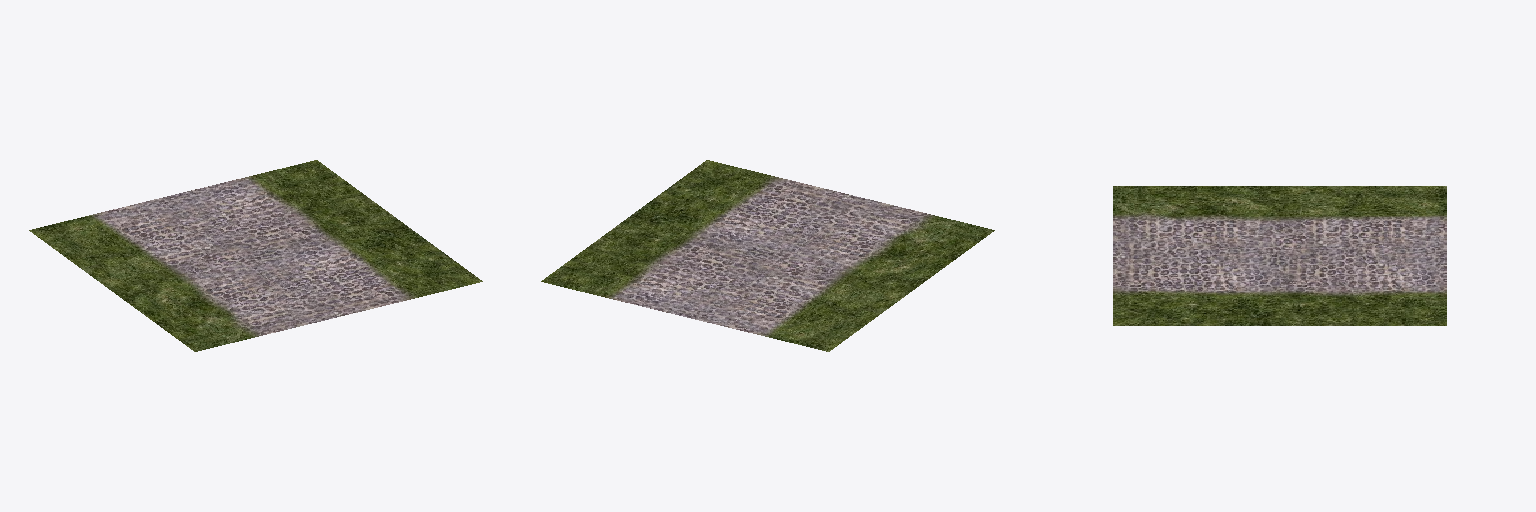
3 views of the same model, side by side, from view 1: azimuth 30°, elevation 25°; view 2: azimuth 150°, elevation 25°; view 3: azimuth 270°, elevation 25° (orthographic).
Parts seen in each view (by area): view 1: mudgrass; view 2: mudgrass; view 3: mudgrass.
Boxes of the visible parts, <box> form: mudgrass: <box>29,160,482,351</box>; mudgrass: <box>541,160,994,351</box>; mudgrass: <box>1113,186,1446,325</box>.
Size of the model in its own units: 76 by 0 by 76.
1 materials, 1 textured.